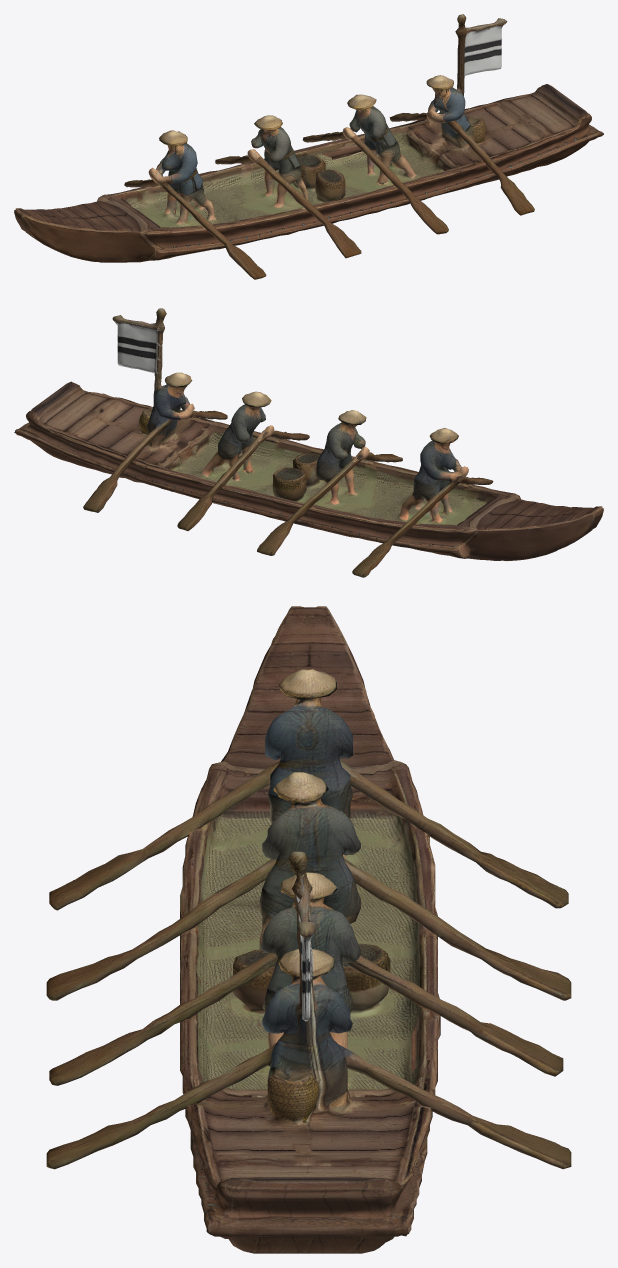
File: japanese_ferry.glb
3 views of the same model, one above another, from view 1: azimuth 30°, elevation 25°; view 2: azimuth 150°, elevation 25°; view 3: azimuth 270°, elevation 25° (orthographic). The views are drawn at different scales.
Bounding box in the file's own units: 1.91 × 0.5284 × 0.771.
Materials: 1 (1 with a texture image).
